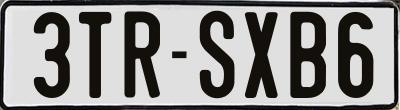3: (31, 11, 67, 97)
6: (338, 10, 373, 97)
B: (289, 11, 325, 101)
R: (121, 11, 163, 104)
S: (200, 11, 240, 98)
T: (77, 12, 113, 100)
X: (242, 11, 277, 101)
